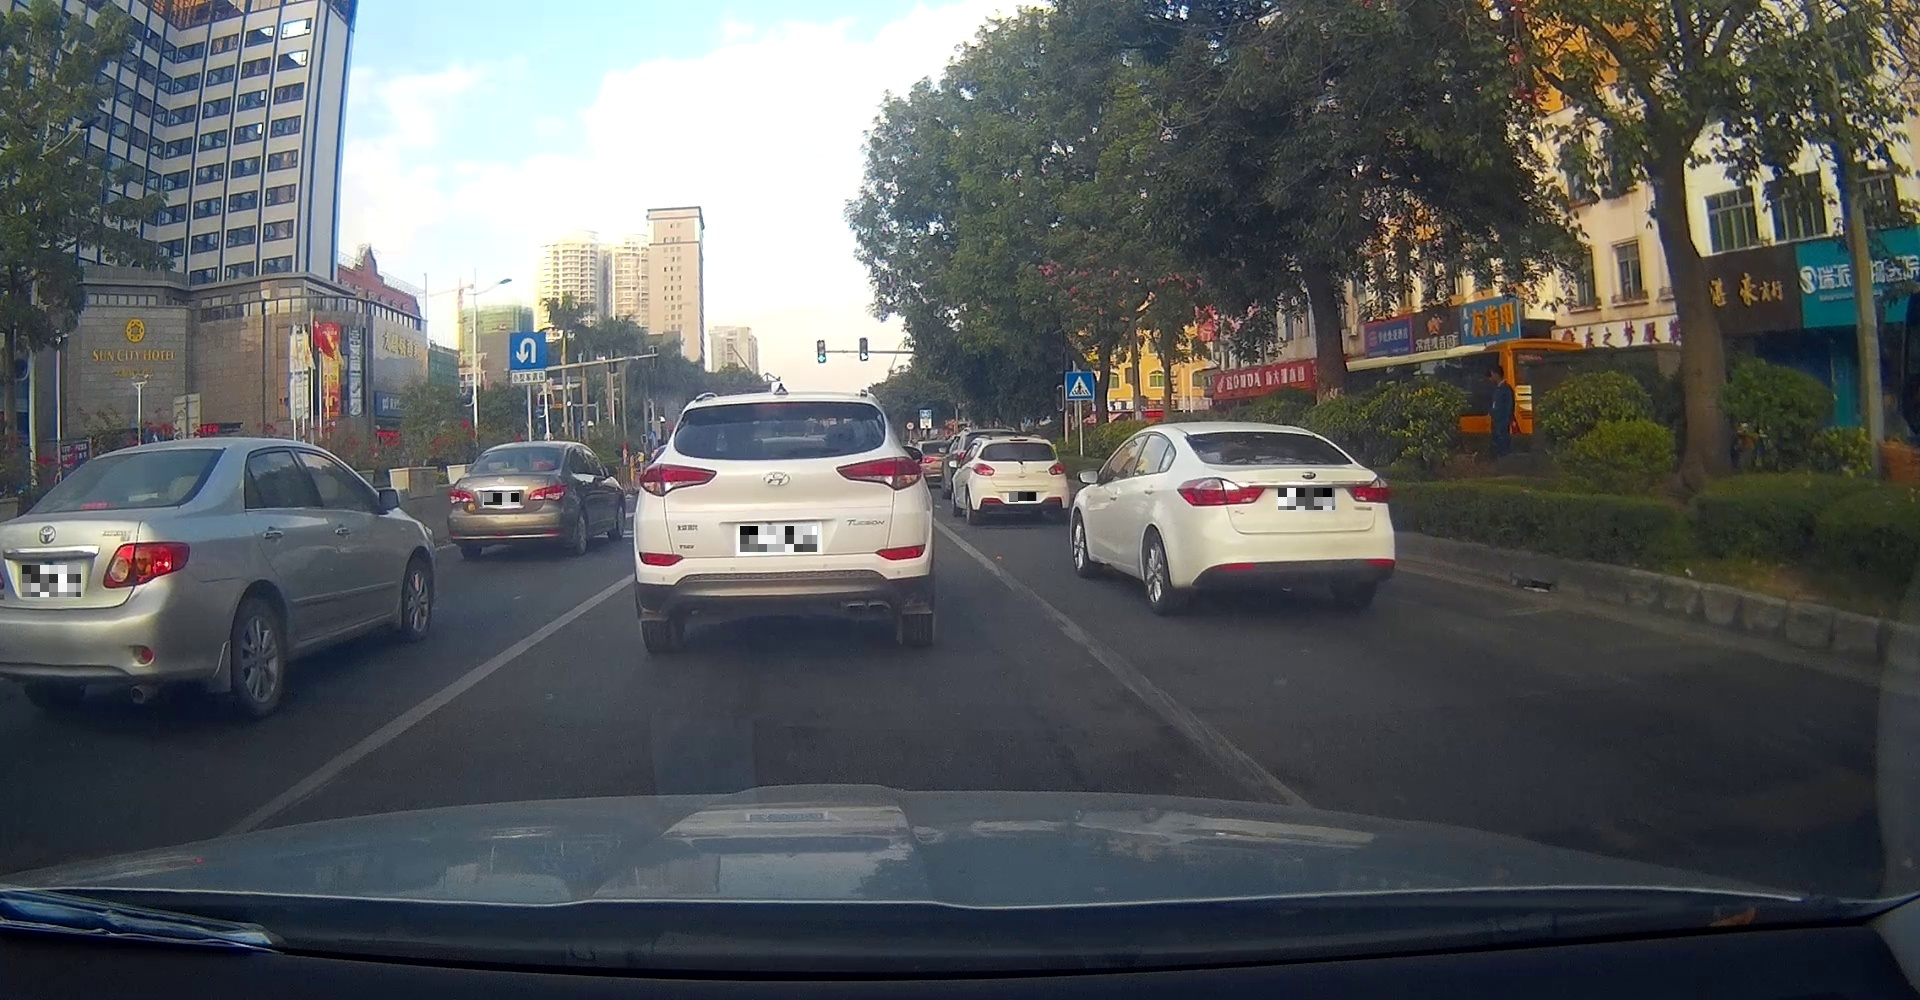L_light: (1176, 477, 1266, 508), (639, 463, 717, 497), (450, 489, 475, 504), (971, 463, 996, 476)
R_light: (836, 456, 922, 491), (1343, 476, 1390, 503), (527, 485, 569, 501), (1048, 461, 1065, 475)
T_light: (1262, 458, 1302, 464), (756, 404, 801, 409), (498, 468, 521, 473), (1010, 439, 1029, 442)
day-no: (632, 390, 935, 654), (1172, 421, 1396, 617), (447, 442, 571, 558), (968, 435, 1069, 525)
plate_1: (22, 565, 81, 596)
plate_2: (484, 492, 519, 505)
plate_3: (740, 525, 817, 552)
plate_4: (1010, 492, 1037, 503)
plate_5: (1277, 489, 1335, 510)
